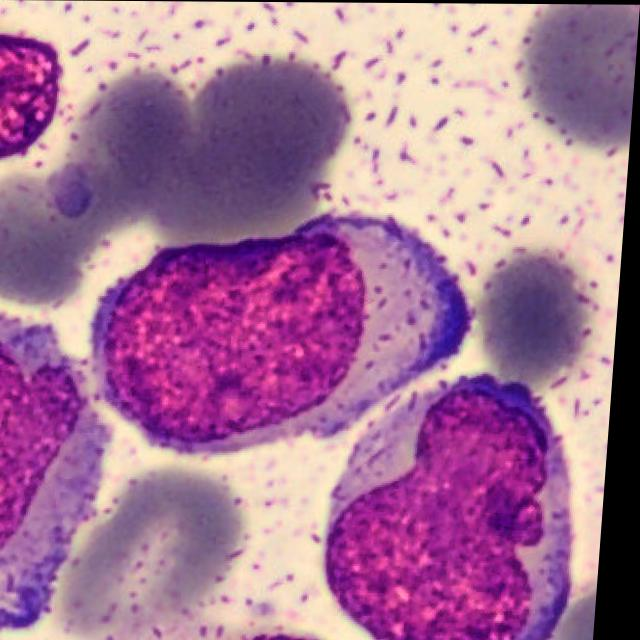Mieloblasto: (95, 212, 477, 453), (333, 373, 578, 640), (0, 312, 117, 627)
